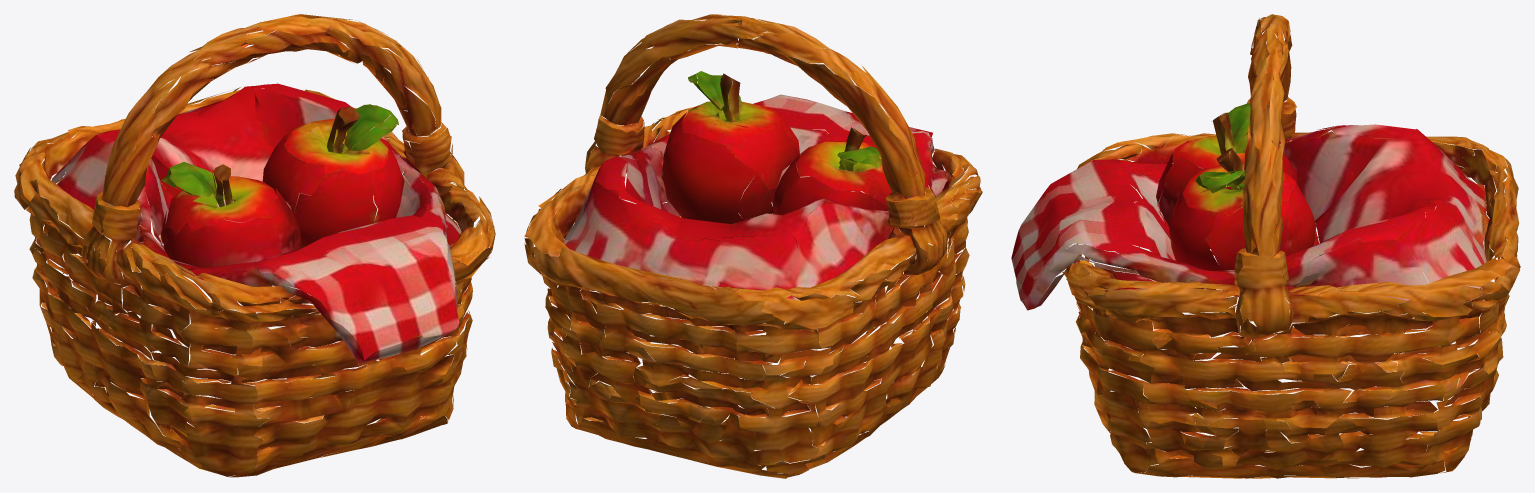
Rendered from basket.glb.
3 renders of one model, left to right at view 1: azimuth 30°, elevation 25°; view 2: azimuth 150°, elevation 25°; view 3: azimuth 270°, elevation 25°, orthographic. The views are drawn at different scales.
Visible parts, largest first — view 1: textured_mesh.obj; view 2: textured_mesh.obj; view 3: textured_mesh.obj.
Part boxes in pixels (box(x1,y1,x2,y2)): textured_mesh.obj: box(14, 14, 495, 477); textured_mesh.obj: box(524, 14, 982, 478); textured_mesh.obj: box(1011, 14, 1520, 478).
Size of the model in its own units: 1.01 by 1 by 1.2.
Materials: 1 (1 with a texture image).
